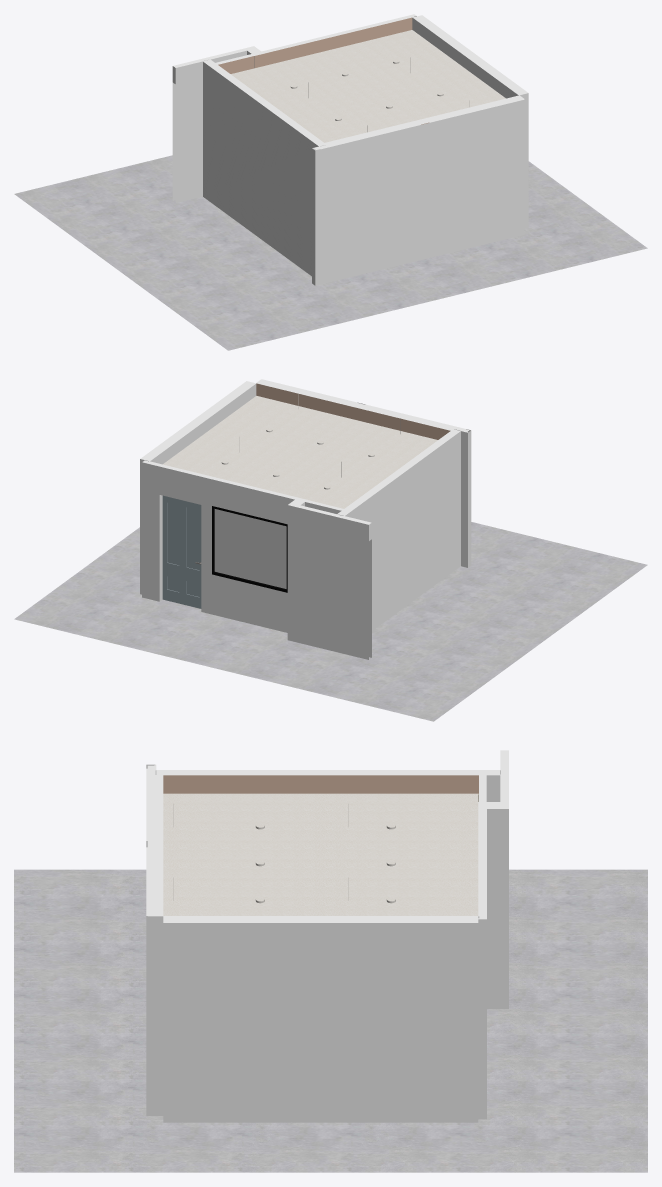
Rendered from break-room(interactive)_ver-2.glb.
3 renders of one model, top to bottom at view 1: azimuth 30°, elevation 25°; view 2: azimuth 150°, elevation 25°; view 3: azimuth 270°, elevation 25°, orthographic. The views are drawn at different scales.
Visible parts, largest first — view 1: walls, floor, ceiling; view 2: floor, walls, ceiling, window, door; view 3: floor, walls, ceiling.
Part boxes in pixels (left/top/right/bottom): walls: left=172, top=14, right=528, bottom=285; floor: left=14, top=155, right=647, bottom=350; ceiling: left=231, top=30, right=505, bottom=142; floor: left=14, top=522, right=647, bottom=721; walls: left=140, top=379, right=471, bottom=659; ceiling: left=163, top=396, right=437, bottom=508; window: left=212, top=506, right=287, bottom=592; door: left=162, top=495, right=201, bottom=608; floor: left=14, top=869, right=647, bottom=1172; walls: left=146, top=750, right=508, bottom=1122; ceiling: left=163, top=793, right=478, bottom=915.
Size of the model in its own units: 394 by 125 by 349.
Materials: 31 (16 with a texture image).
